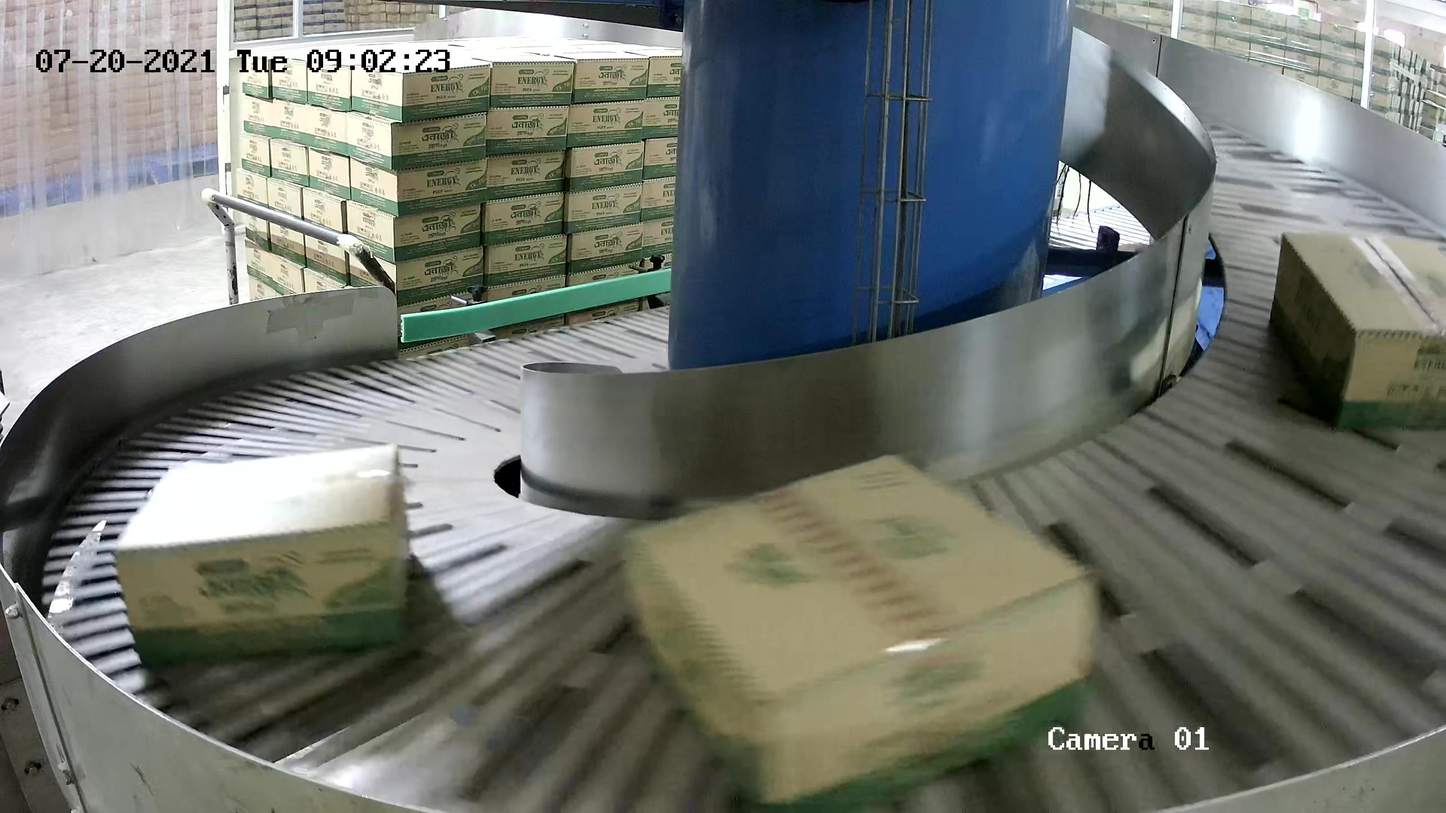Box: (623, 451, 1102, 813), (110, 440, 409, 660), (1268, 229, 1446, 433)
